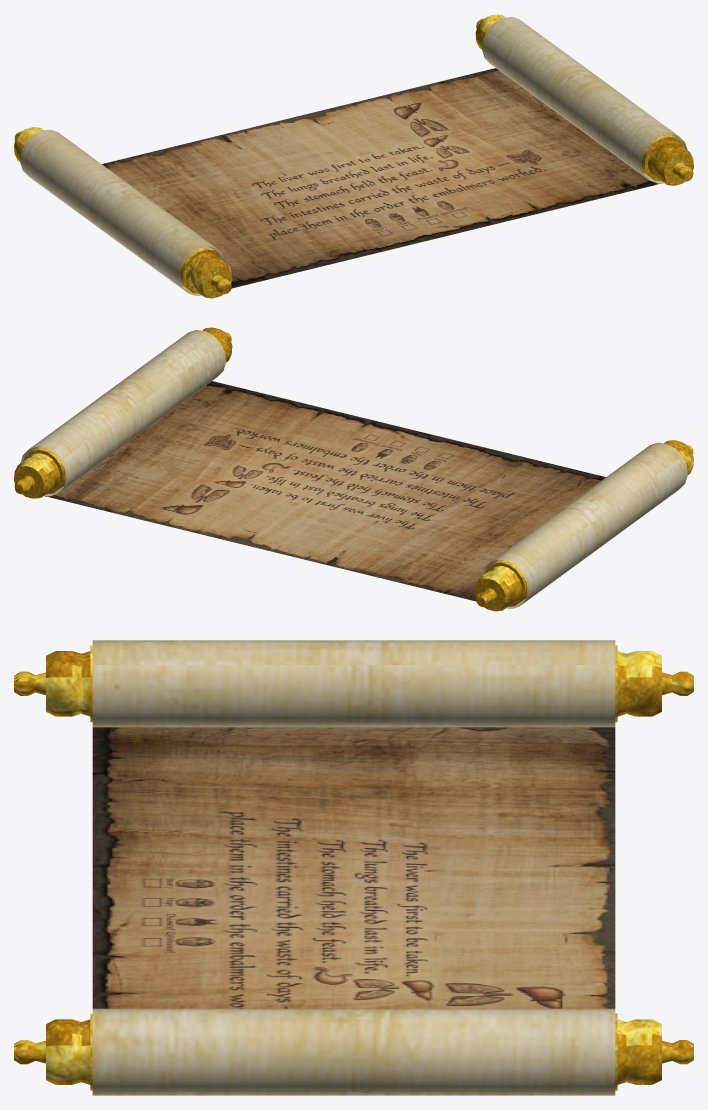
Rendered from Puzzle 6 Scroll.fbx.
3 views of the same model, one above another, from view 1: azimuth 30°, elevation 25°; view 2: azimuth 150°, elevation 25°; view 3: azimuth 270°, elevation 25° (orthographic). The views are drawn at different scales.
Visible parts, largest first — view 1: Object_5.001; view 2: Object_5.001; view 3: Object_5.001.
Part boxes in pixels (left/top/right/bottom): Object_5.001: left=14, top=14, right=693, bottom=298; Object_5.001: left=14, top=327, right=693, bottom=611; Object_5.001: left=14, top=640, right=693, bottom=1095.
Size of the model in its own units: 81.16 by 7.36 by 57.6.
